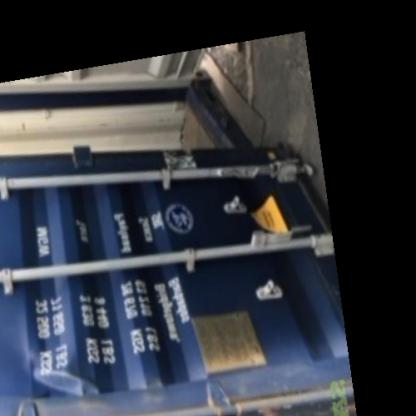Damage: (16, 346, 100, 401), (202, 370, 326, 405)
